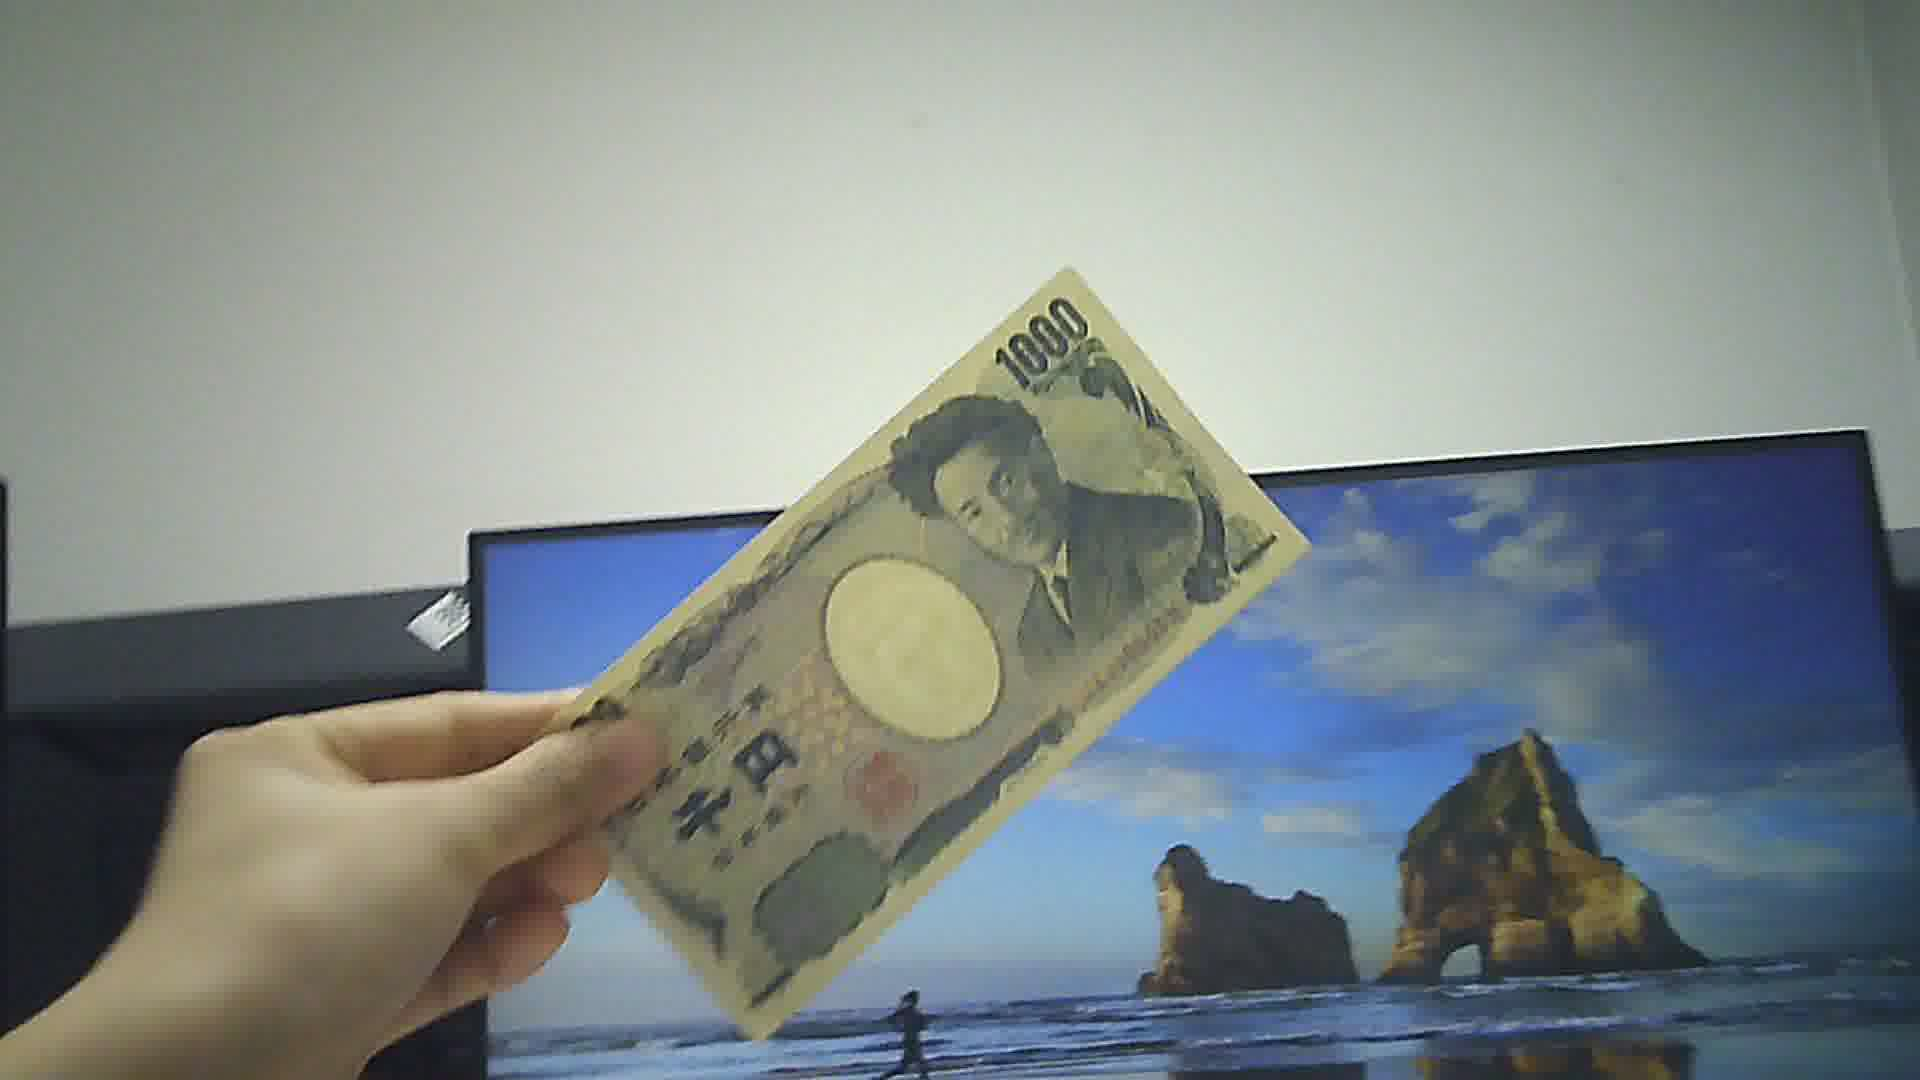1,000 Yen: (501, 249, 1302, 1011)
